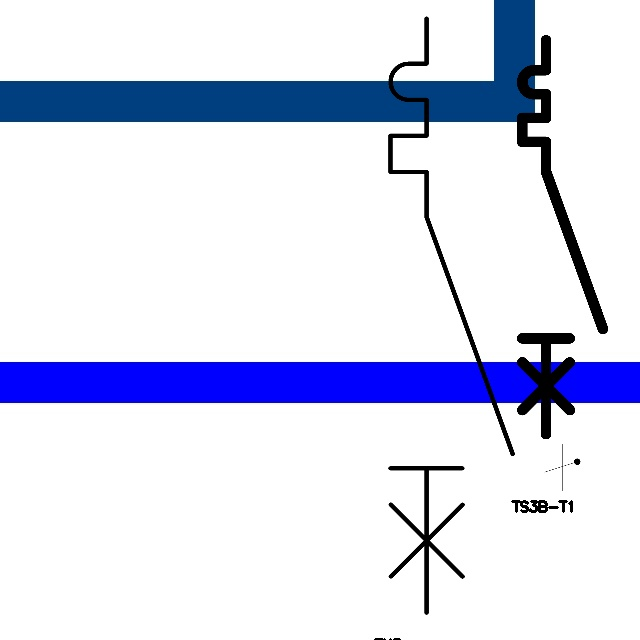interruptor_termomagnetico: (375, 3, 528, 627), (512, 30, 613, 444)
